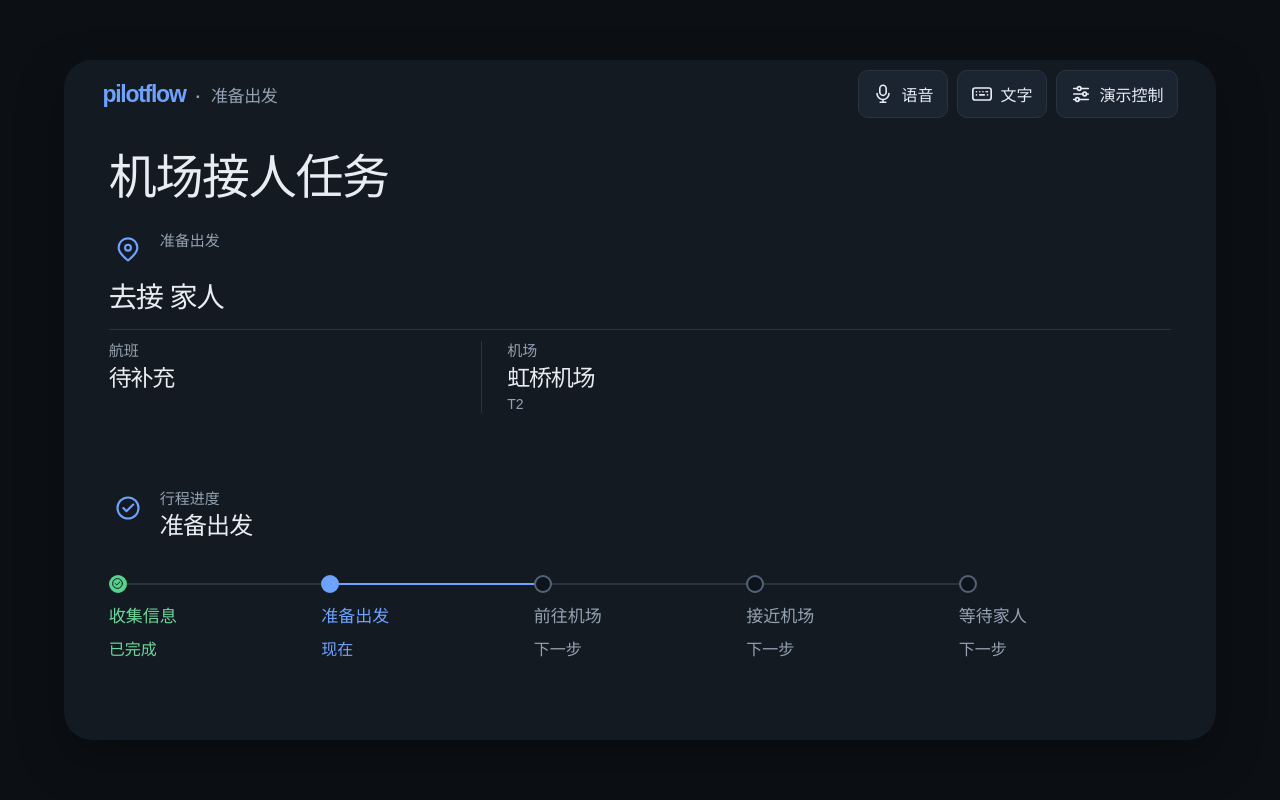
Test case: demo integration › trip brief shell › keeps engineering metadata out of the brief and inside the drawer
expect the element "当前行程" does not show "taskRevision": met
expect the element "当前行程" does not show "uiRevision": met
Click the button with aria-label "打开演示控制".
click(1117, 94)  # box [1056, 70, 1178, 118]
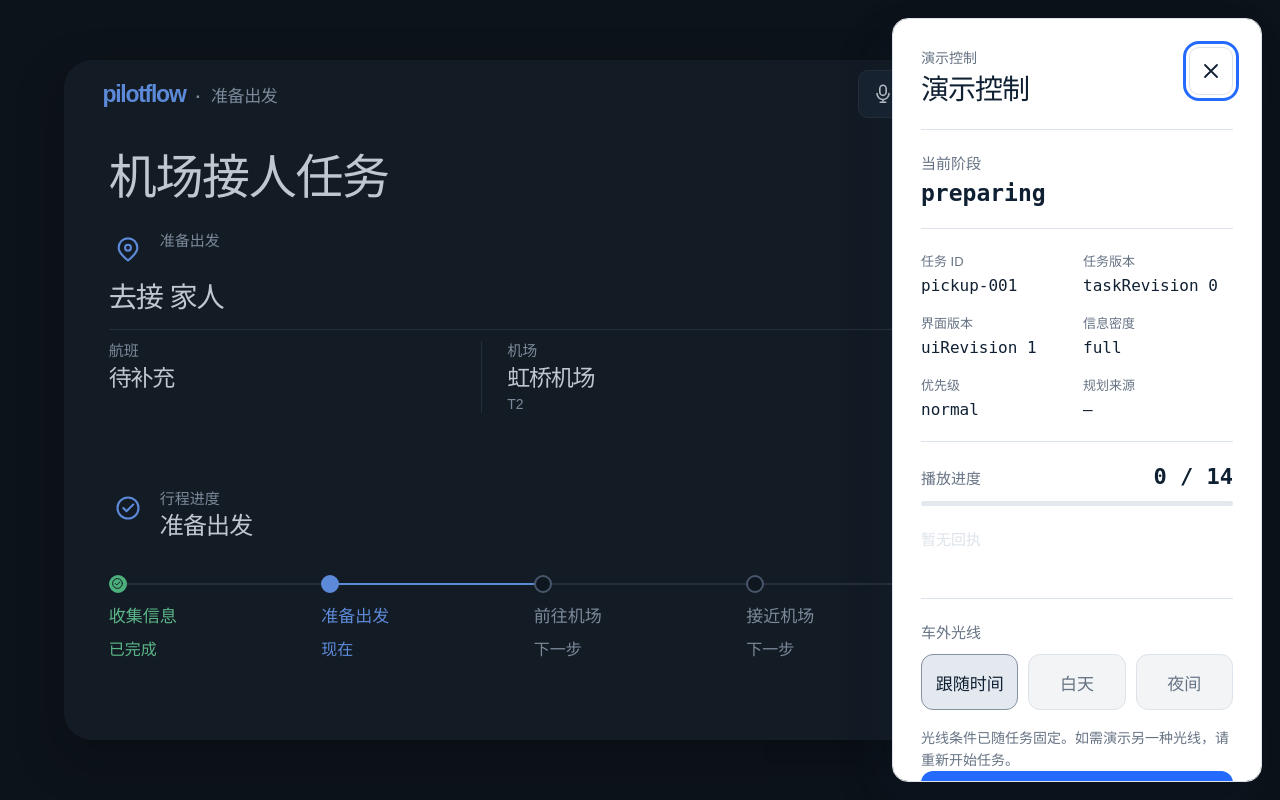
expect the dialog "演示控制" shows "preparing": met, box [921, 180, 1046, 206]
expect the dialog "演示控制" shows "taskRevision": met, box [1083, 276, 1218, 295]
expect the dialog "演示控制" shows "uiRevision": met, box [921, 338, 1037, 357]
